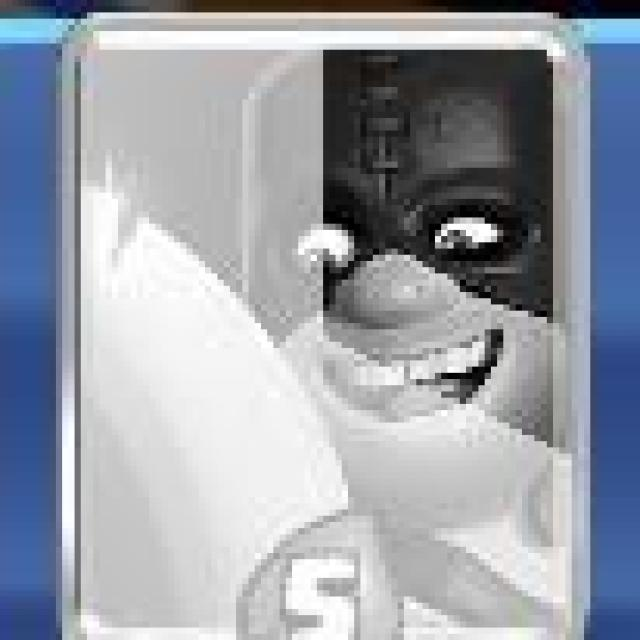Executioner: (64, 22, 586, 640)
